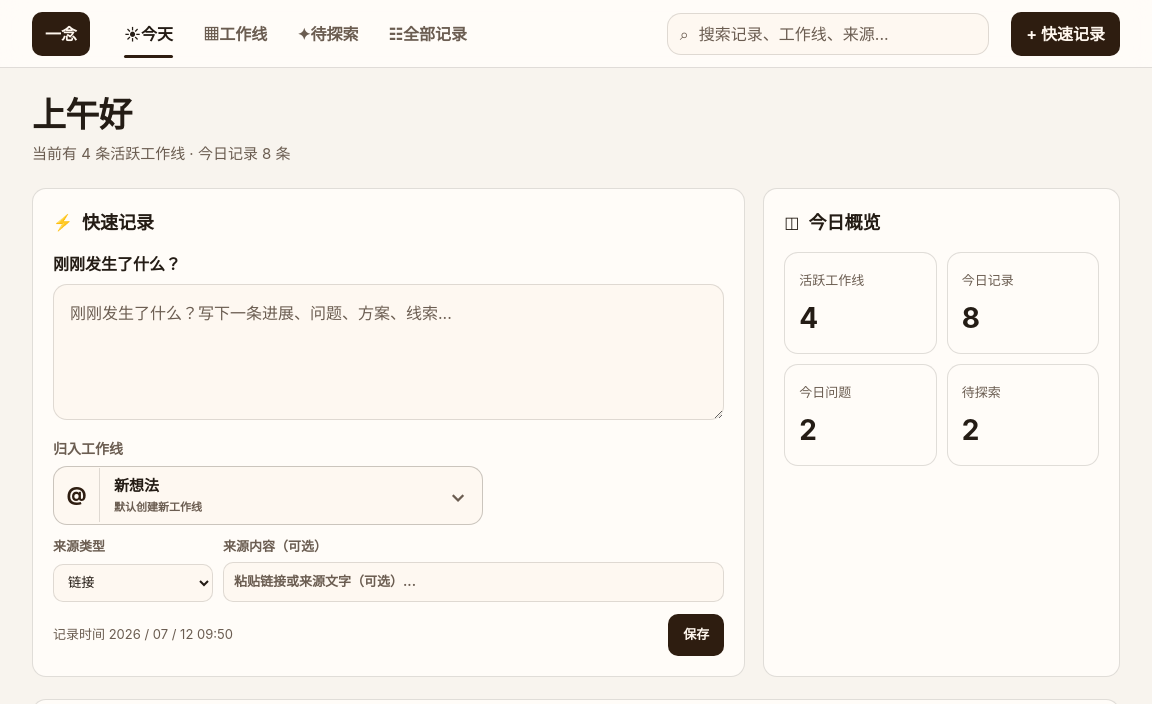
Test: Yinian six-page product shell › deletes a workline and its records through the SQLite API
Expected: the heading "上午好" is shown, [32,94,132,135]
Click the button "▦工作线" at (235, 34), box [191,10,279,58]
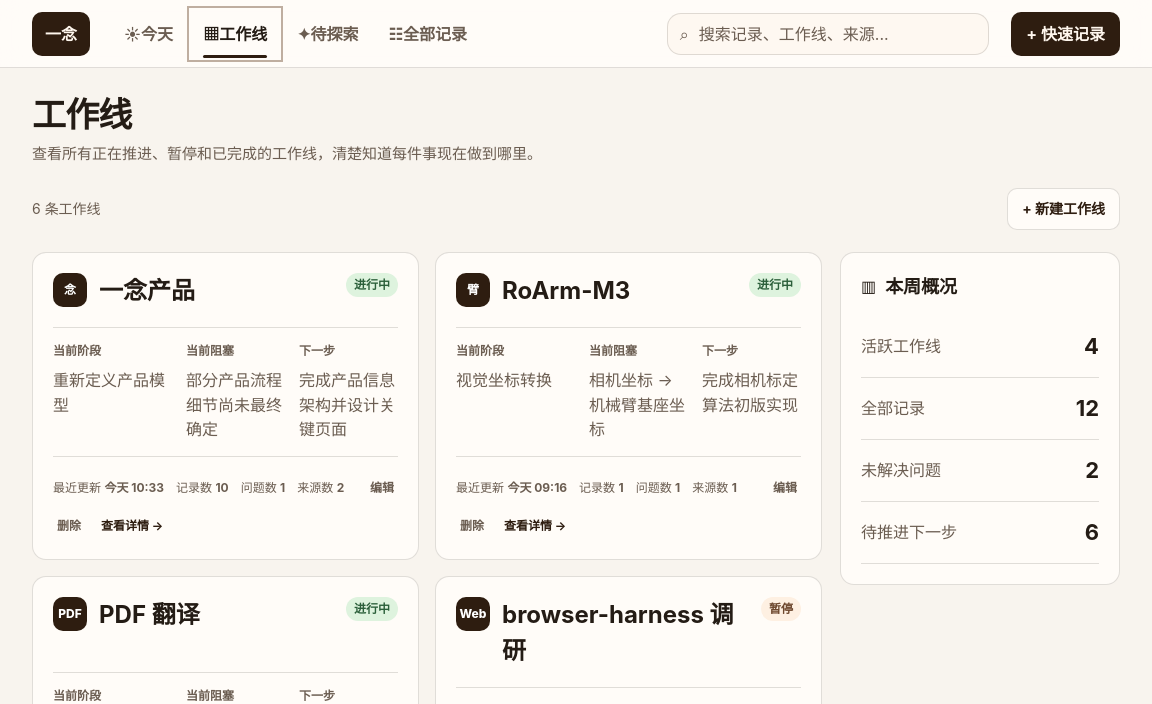
Click the button with aria-label "删除一念产品" at (69, 526), box [53,513,85,539]
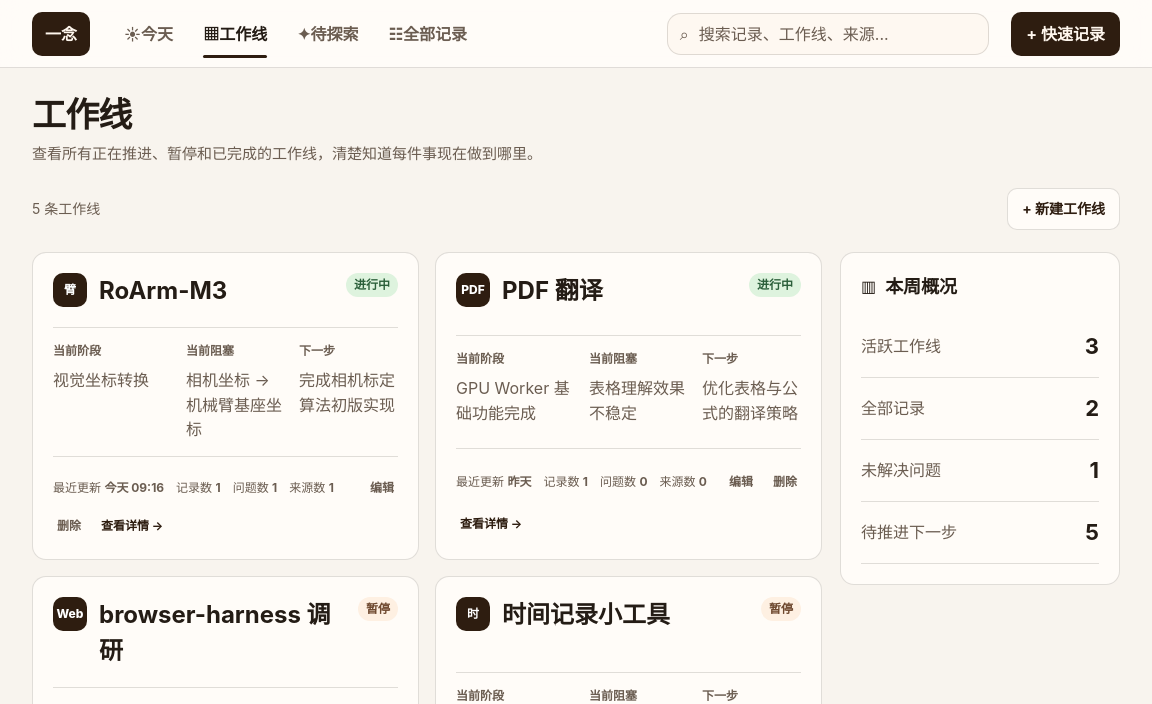
Result: the element "一念产品统计" is gone
